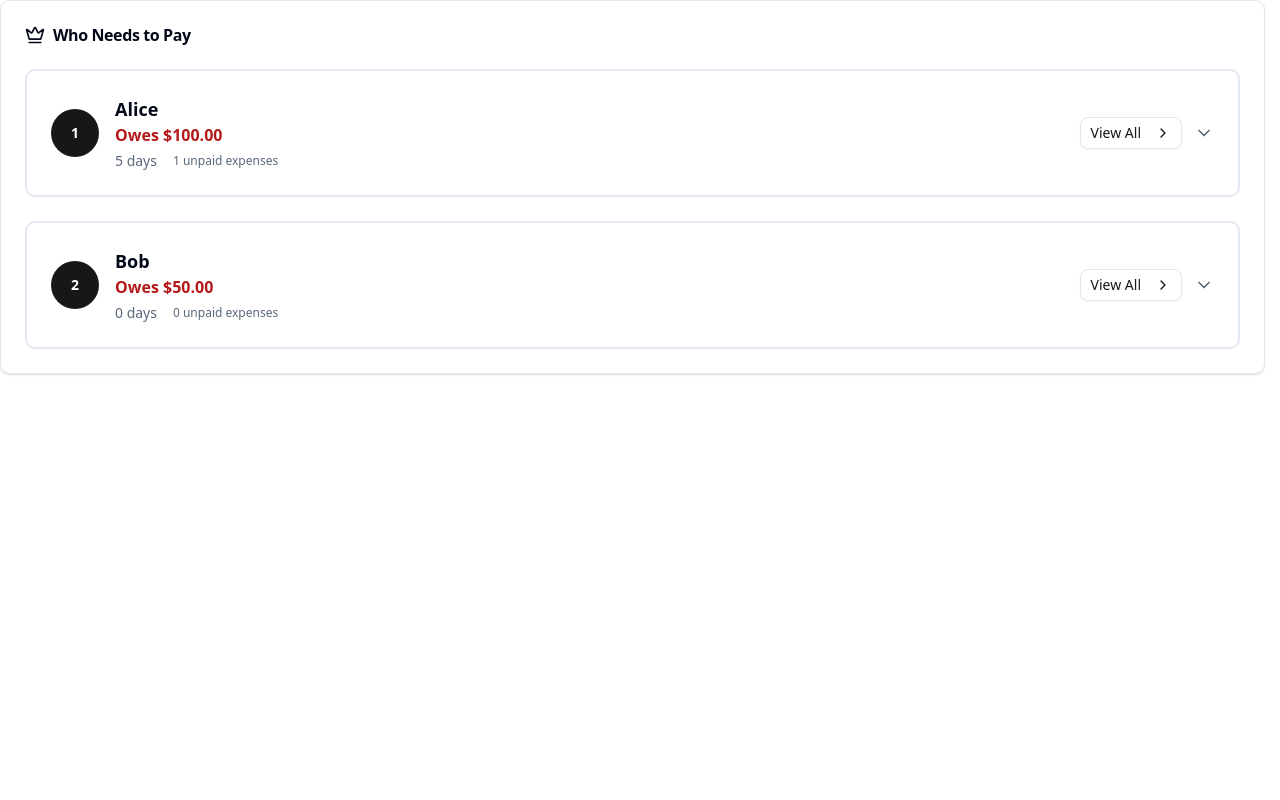
Test case: DebtorsTab › toggles expansion to show unpaid expenses
Click the button with test id "debtor-expand-toggle-1": (75, 133) [51,97,1214,170]
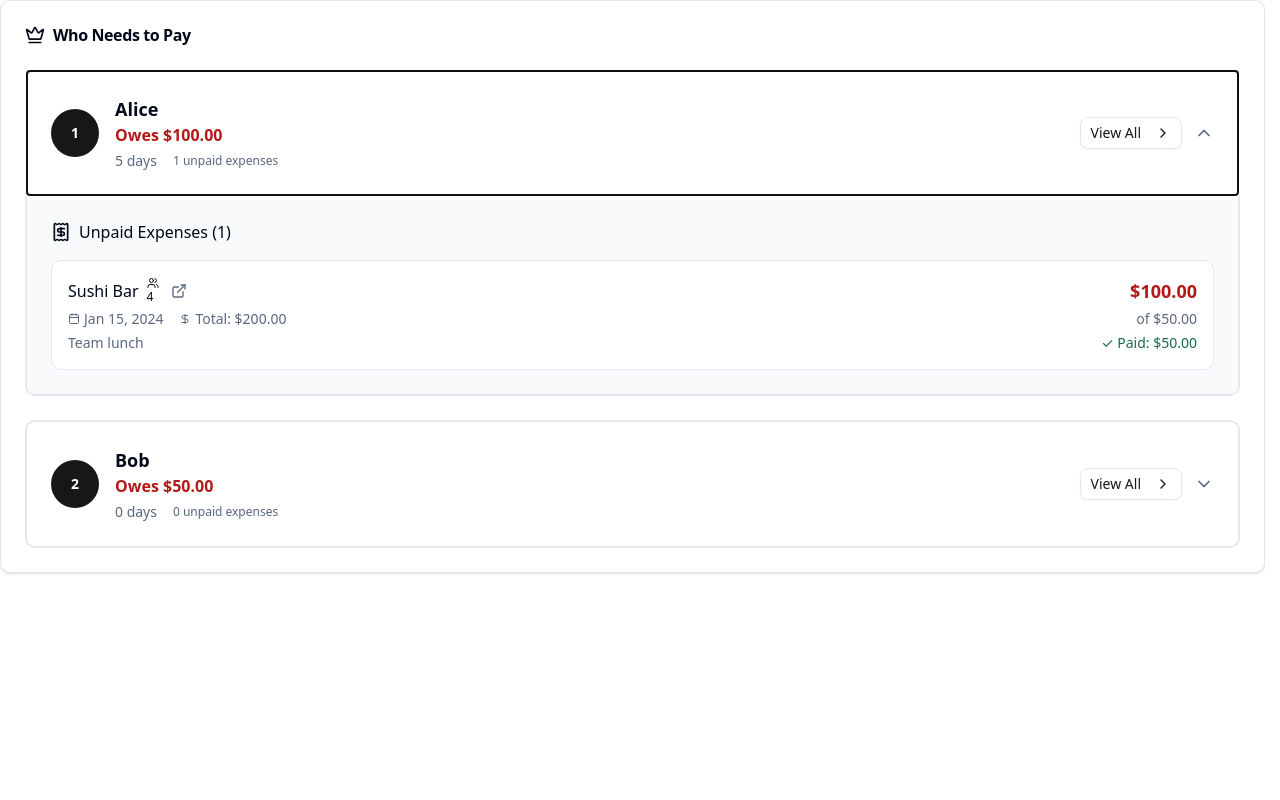
Result: the heading "Unpaid Expenses (1)" is shown at [51,221,231,243]
